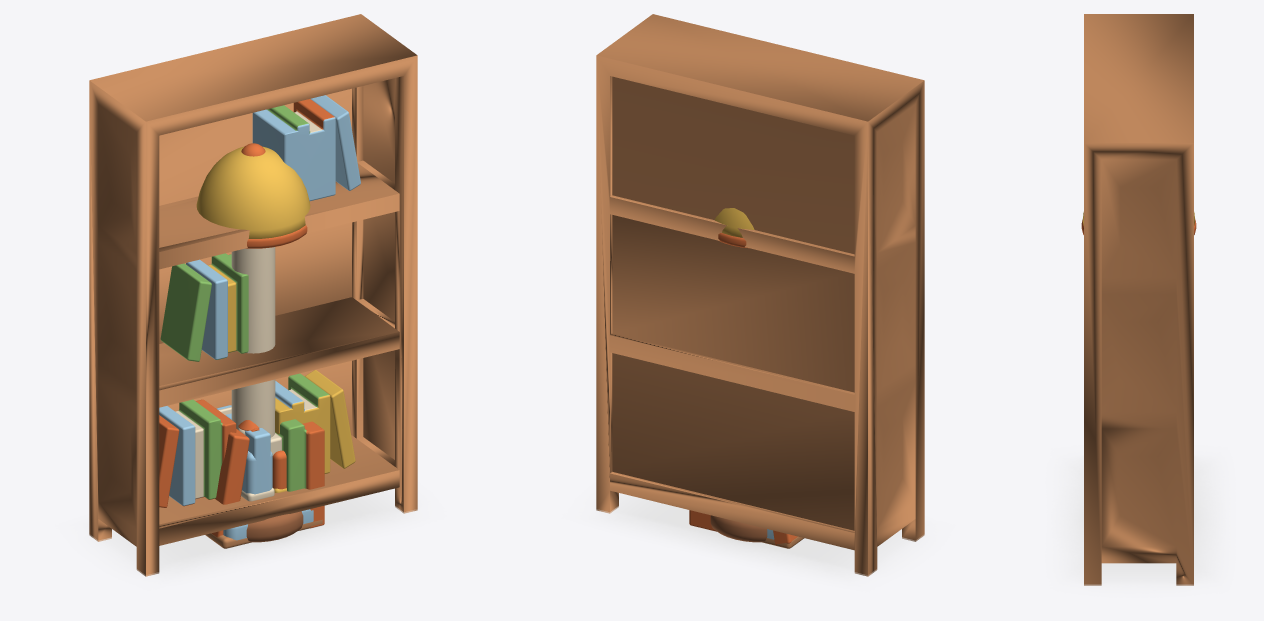
Rendered from interest_book_v1.glb.
3 views of the same model, side by side, from view 1: azimuth 30°, elevation 25°; view 2: azimuth 150°, elevation 25°; view 3: azimuth 270°, elevation 25° (orthographic). The views are drawn at different scales.
Parts seen in each view (by area): view 1: bookshelf_frame, bookshelf, shadow_bookshelf, reading_lamp_shade, book_stack_books, reading_lamp_stem, sf_books, reading_lamp_base, shadow_reading_lamp; view 2: bookshelf_frame, shadow_bookshelf, reading_lamp_base, reading_lamp_shade; view 3: bookshelf_frame, shadow_bookshelf, shadow_reading_lamp.
Boxes of the visible parts, left/top/right/bottom form: bookshelf_frame: left=89, top=14, right=417, bottom=576; bookshelf: left=159, top=95, right=360, bottom=507; shadow_bookshelf: left=84, top=489, right=420, bottom=579; reading_lamp_shade: left=196, top=146, right=310, bottom=238; book_stack_books: left=212, top=405, right=324, bottom=537; reading_lamp_stem: left=231, top=247, right=275, bottom=437; sf_books: left=241, top=450, right=286, bottom=501; reading_lamp_base: left=246, top=511, right=303, bottom=542; shadow_reading_lamp: left=195, top=529, right=312, bottom=548; bookshelf_frame: left=596, top=14, right=924, bottom=576; shadow_bookshelf: left=590, top=493, right=927, bottom=581; reading_lamp_base: left=710, top=515, right=767, bottom=542; reading_lamp_shade: left=714, top=208, right=754, bottom=237; bookshelf_frame: left=1084, top=14, right=1193, bottom=585; shadow_bookshelf: left=1060, top=455, right=1222, bottom=589; shadow_reading_lamp: left=1070, top=505, right=1207, bottom=541.
Size of the model in its own units: 1.08 by 1.28 by 0.581.
8 materials, 1 textured.
